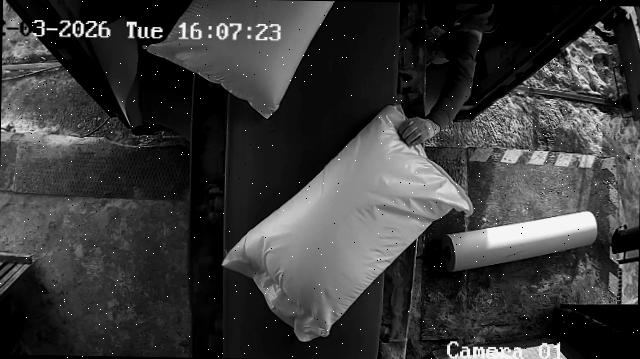bag: (222, 99, 476, 344), (146, 0, 339, 121)
